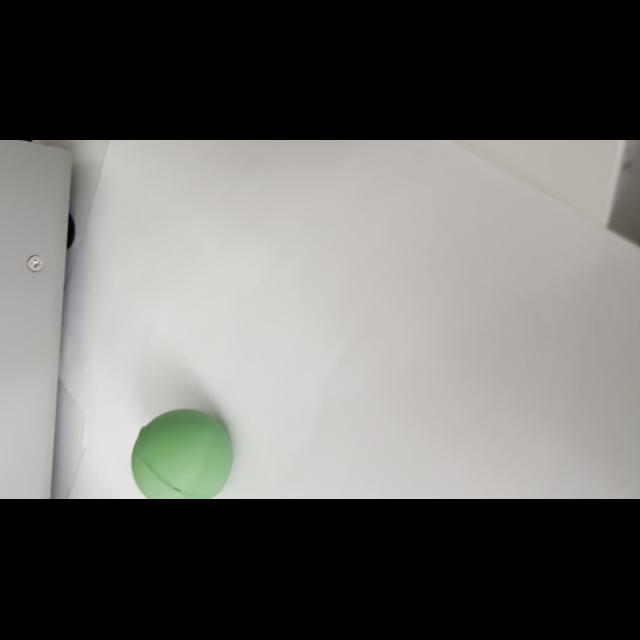objects: (128, 405, 234, 499)
